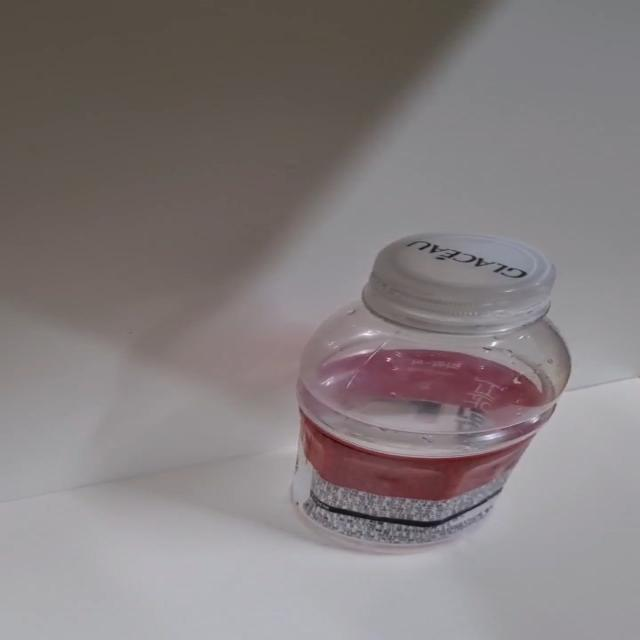Plastic: (287, 232, 573, 558)
